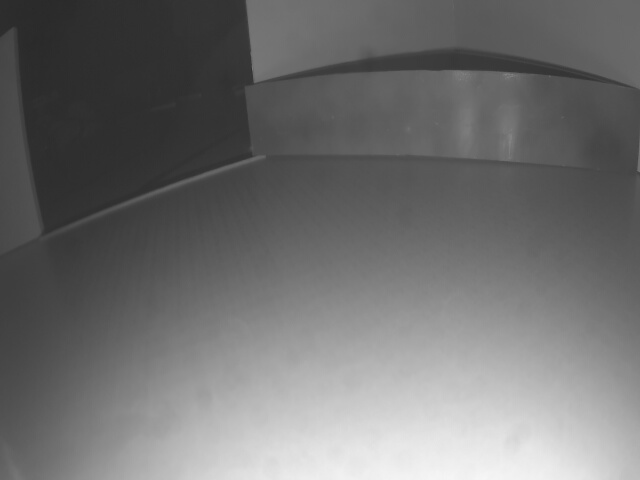Red: (244, 66, 639, 176)
